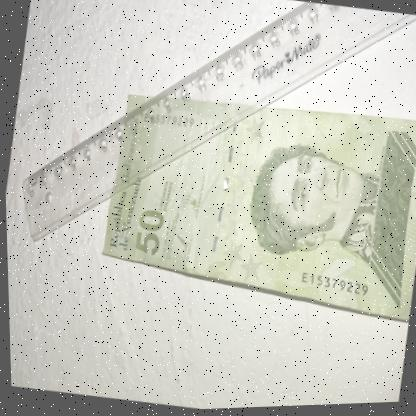fifty-front-vef: (89, 76, 416, 333)
